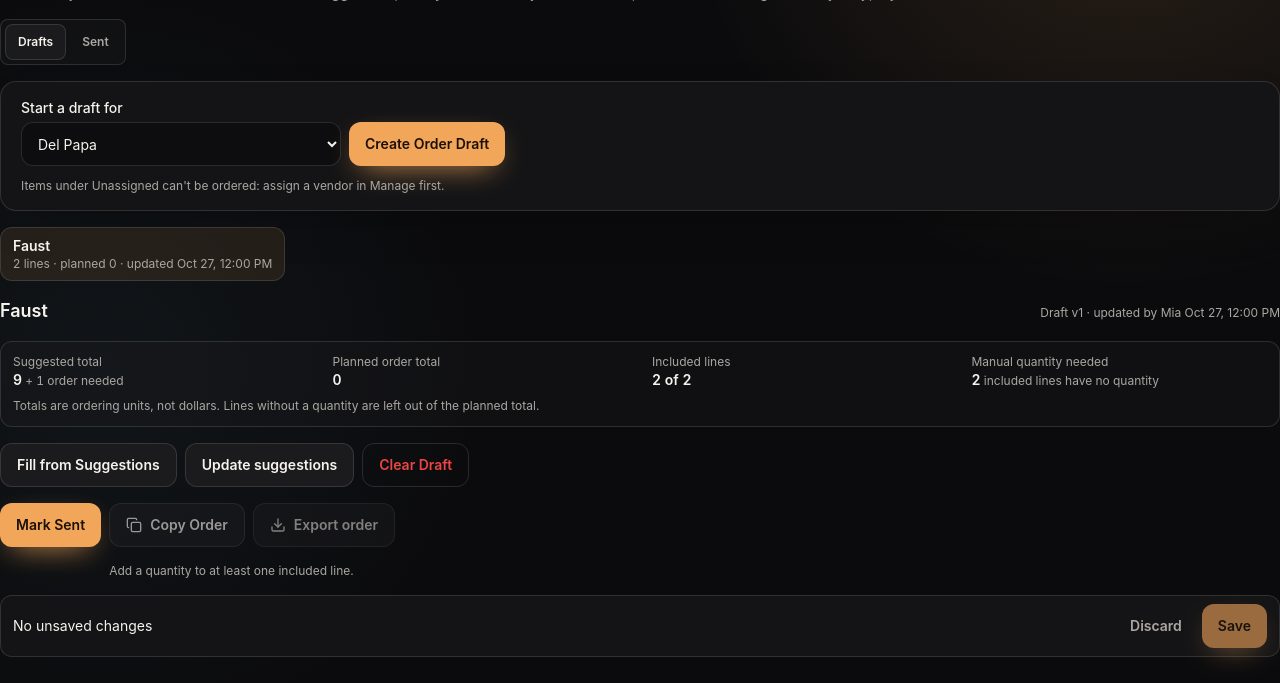
Order needed (no Par) lines (VOD-012) › shows 'Order needed' with no invented number, flags it, and Fill leaves it blank
Expected: the element with test id "draft-suggested-total" reads "9 + 1 order needed", [13,371,124,388]
What coordinates should you click on to do the following:
click the button "Fill from Suggestions"
I would click on:
 (88, 465)
Its box is [0,443,177,487].
(page scrolled)
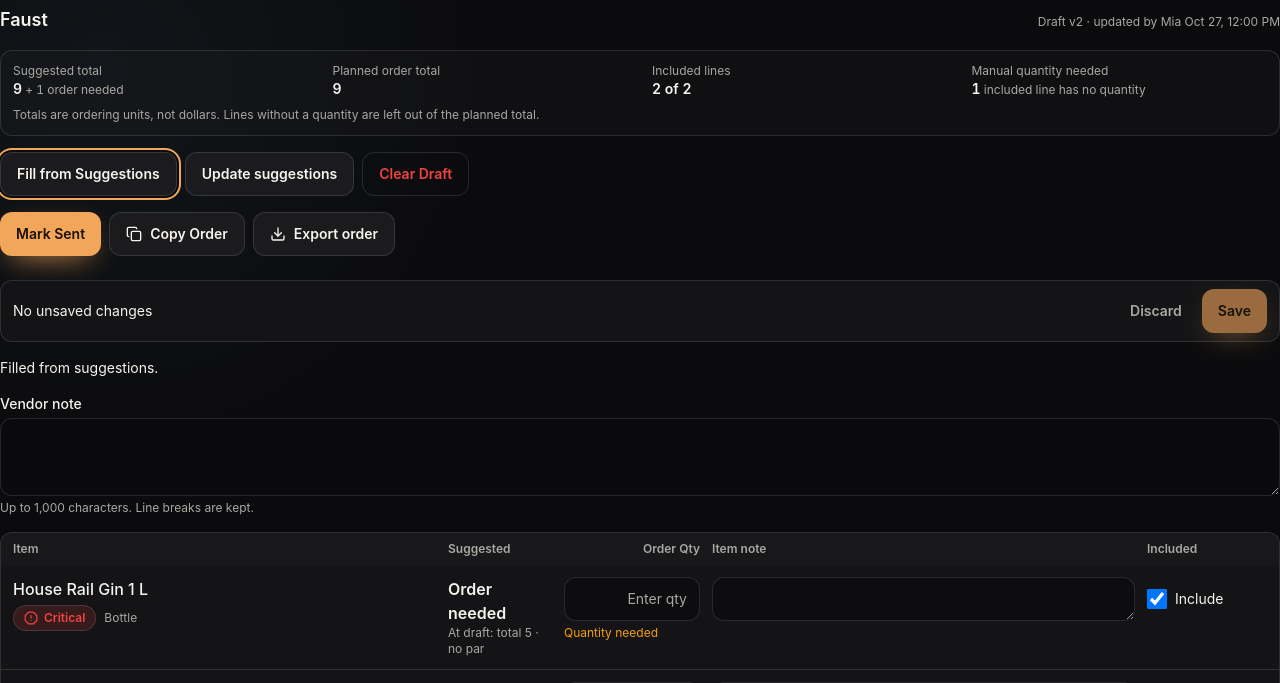
Expected: the field named "Order quantity for House Rail Gin" is empty, [564,577,700,621]
Expected: the text "Filled from suggestions." is shown, [0,359,158,376]
